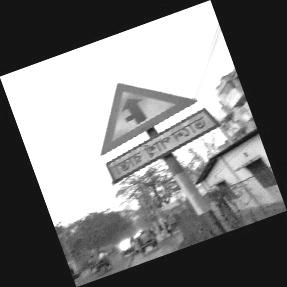Side-road-right: (99, 83, 214, 188)
